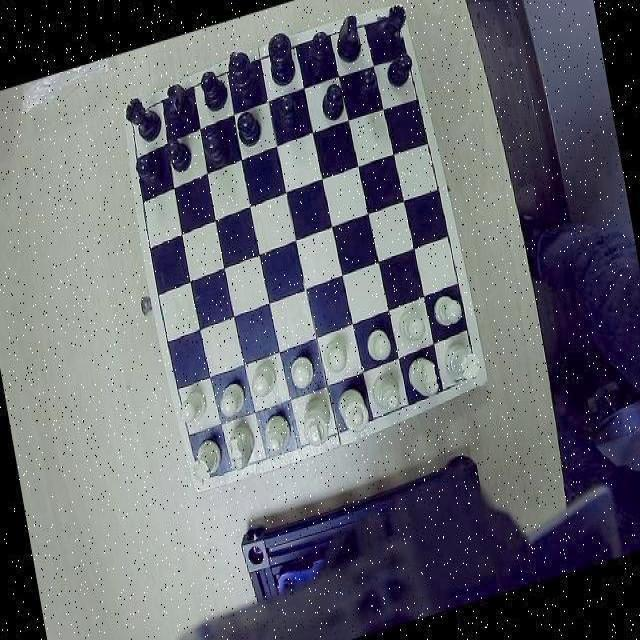chess-table-corners: (450, 352, 488, 392), (192, 456, 226, 492), (374, 5, 407, 42), (123, 95, 151, 129)
